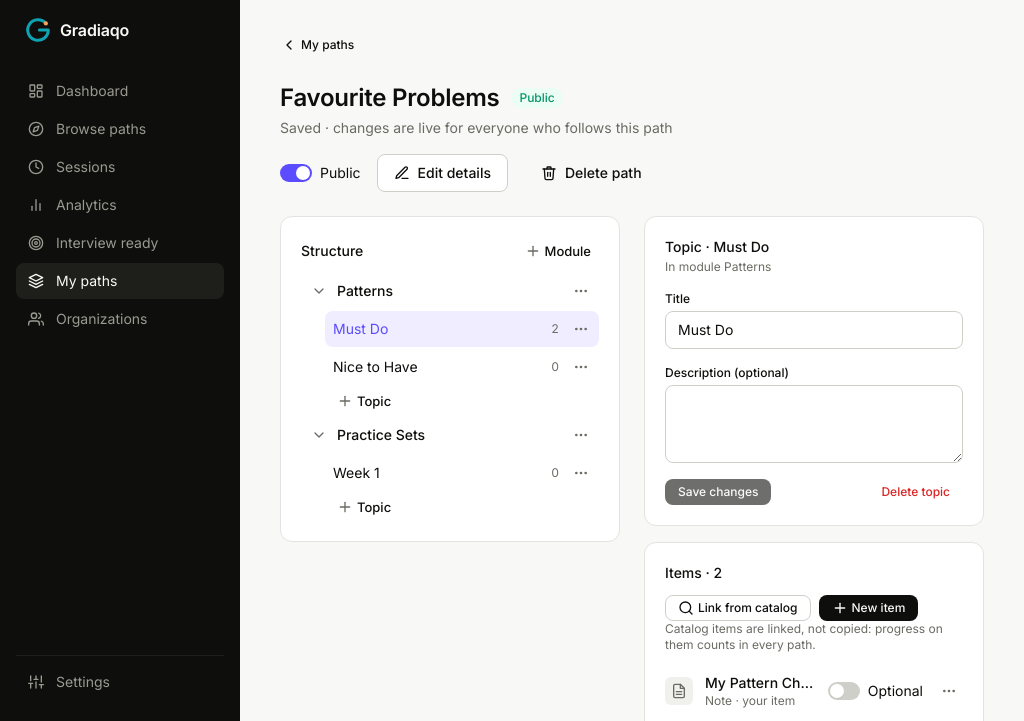
Test: PathBuilderPage › editing › explains a title that's taken
Expected: the heading "Favourite Problems" is shown, [280, 82, 500, 114]
Click the button "Patterns": (448, 291) [333, 273, 563, 309]
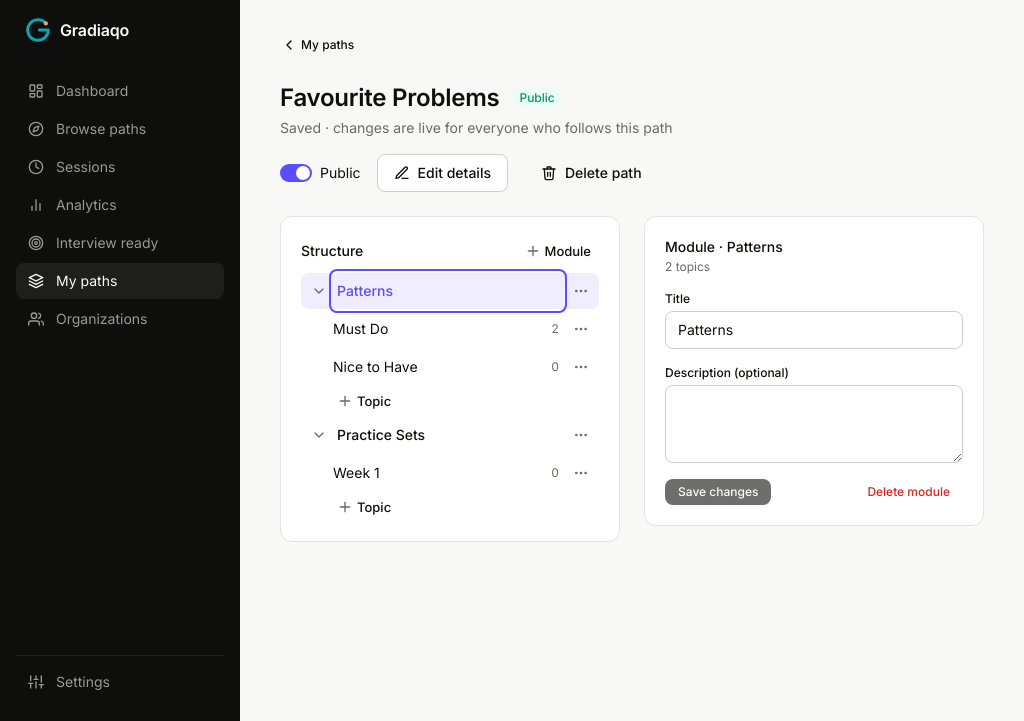
In the field labelled "Title": (814, 330) [665, 311, 963, 349], type "!"
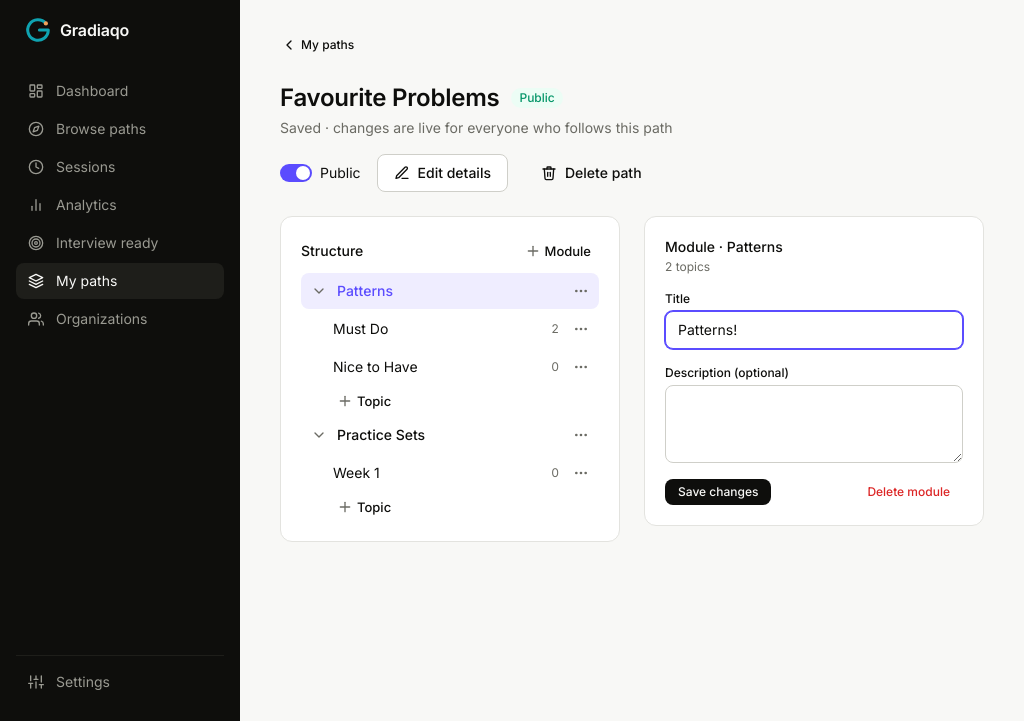
Click the button "Save changes": (718, 492) [665, 479, 771, 505]
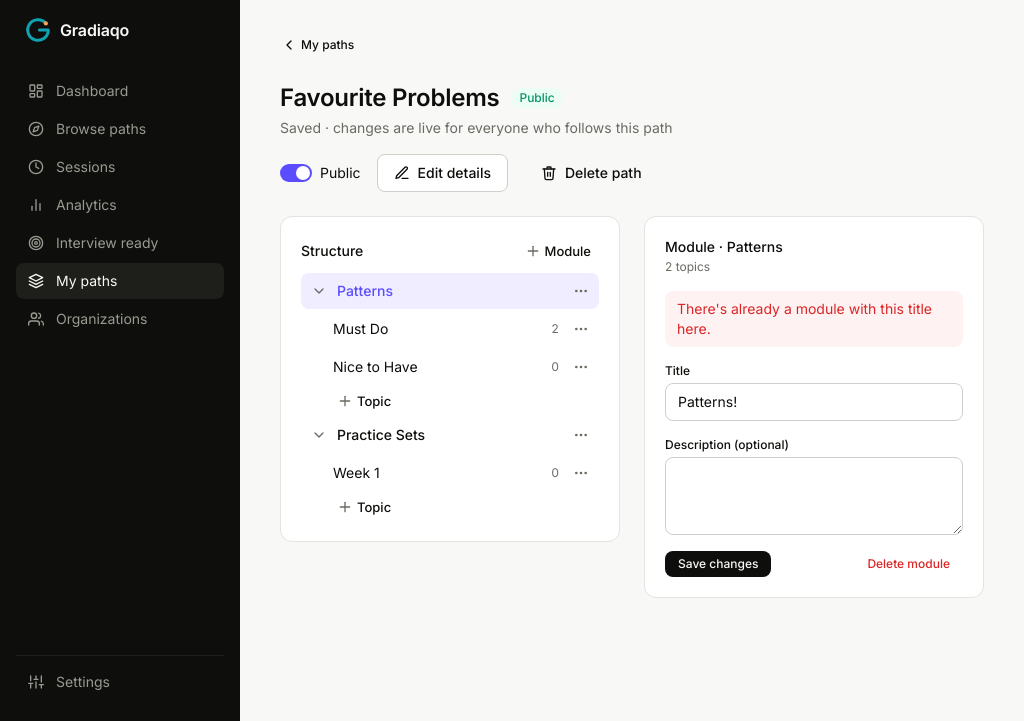
Expected: the message reads "There's already a module with this title here.", [677, 300, 932, 337]
